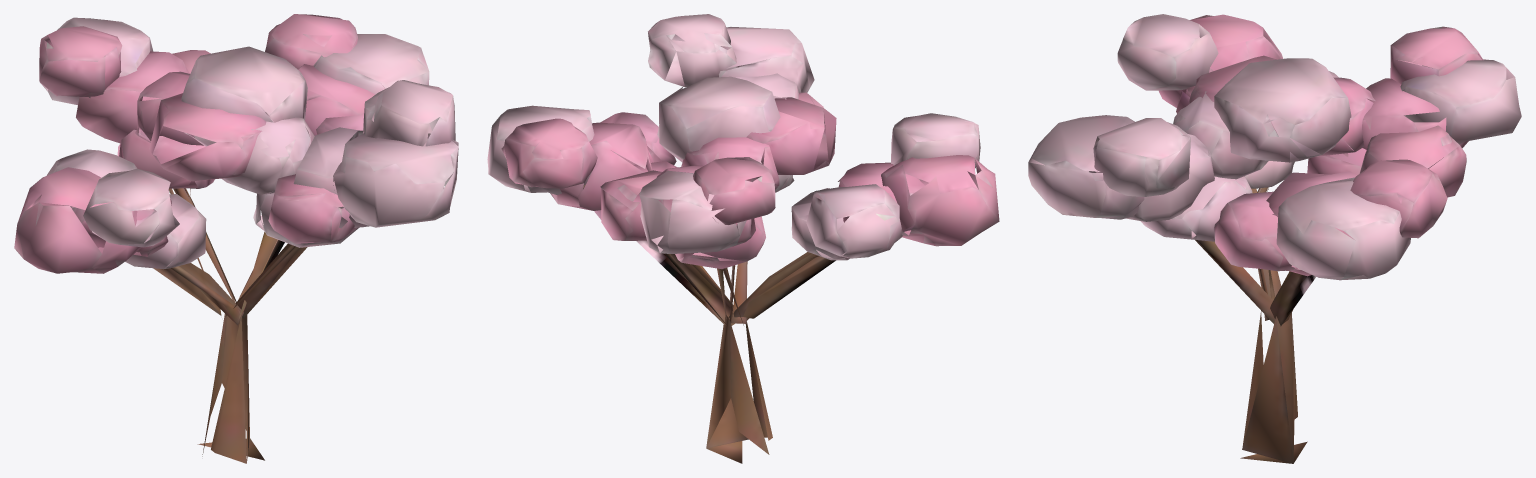
Rendered from cherry.glb.
3 renders of one model, left to right at view 1: azimuth 30°, elevation 25°; view 2: azimuth 150°, elevation 25°; view 3: azimuth 270°, elevation 25°, orthographic. The views are drawn at different scales.
Visible parts, largest first — view 1: cherry-blossom-tree_body; view 2: cherry-blossom-tree_body; view 3: cherry-blossom-tree_body.
Boxes of the visible parts, x1,y1,x2,y2 form: cherry-blossom-tree_body: [14, 14, 458, 463]; cherry-blossom-tree_body: [487, 14, 999, 463]; cherry-blossom-tree_body: [1028, 14, 1521, 463].
Size of the model in its own units: 5.4 by 4.19 by 4.89.
1 material, 1 textured.
